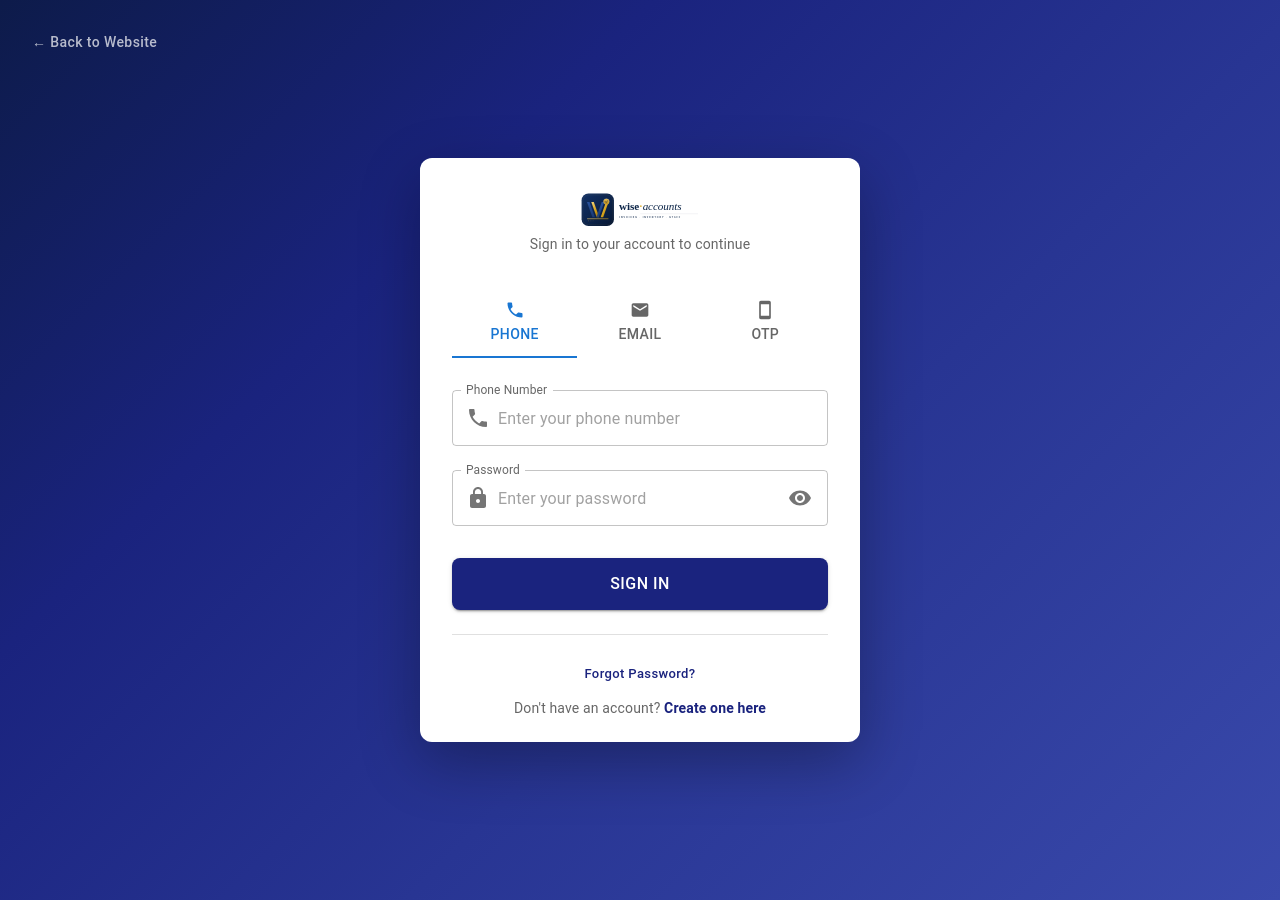
Scenario: LoginPage › shows error when submitting empty form
Click the button "Sign In": (640, 584) [452,558,828,610]
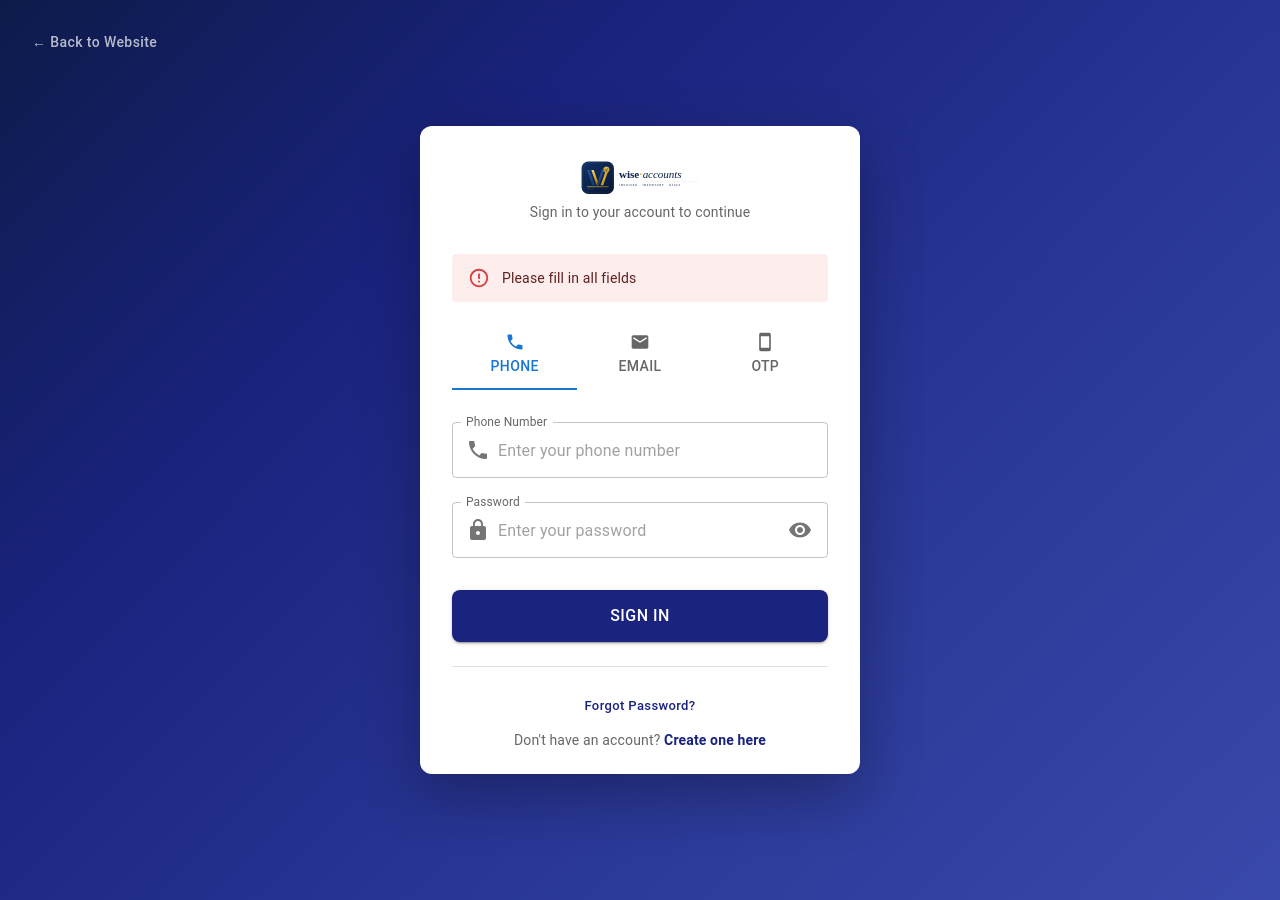
Expected: the text "Please fill in all fields" is shown, [502,270,636,286]
